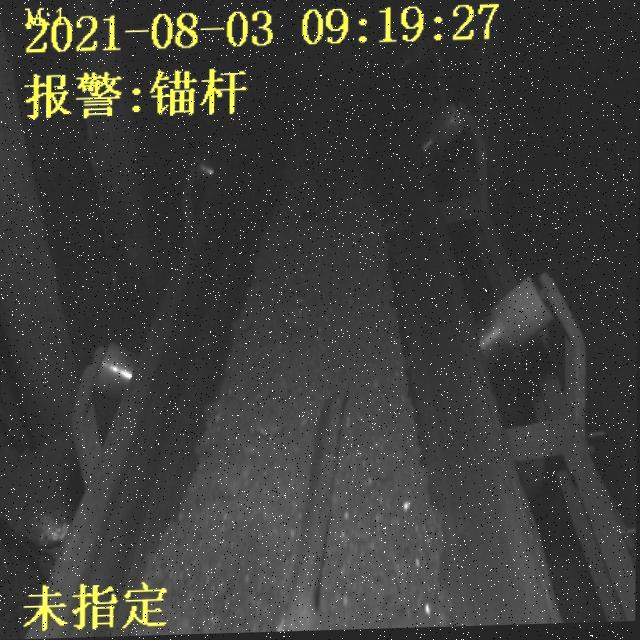bolt: (285, 400, 349, 633)
